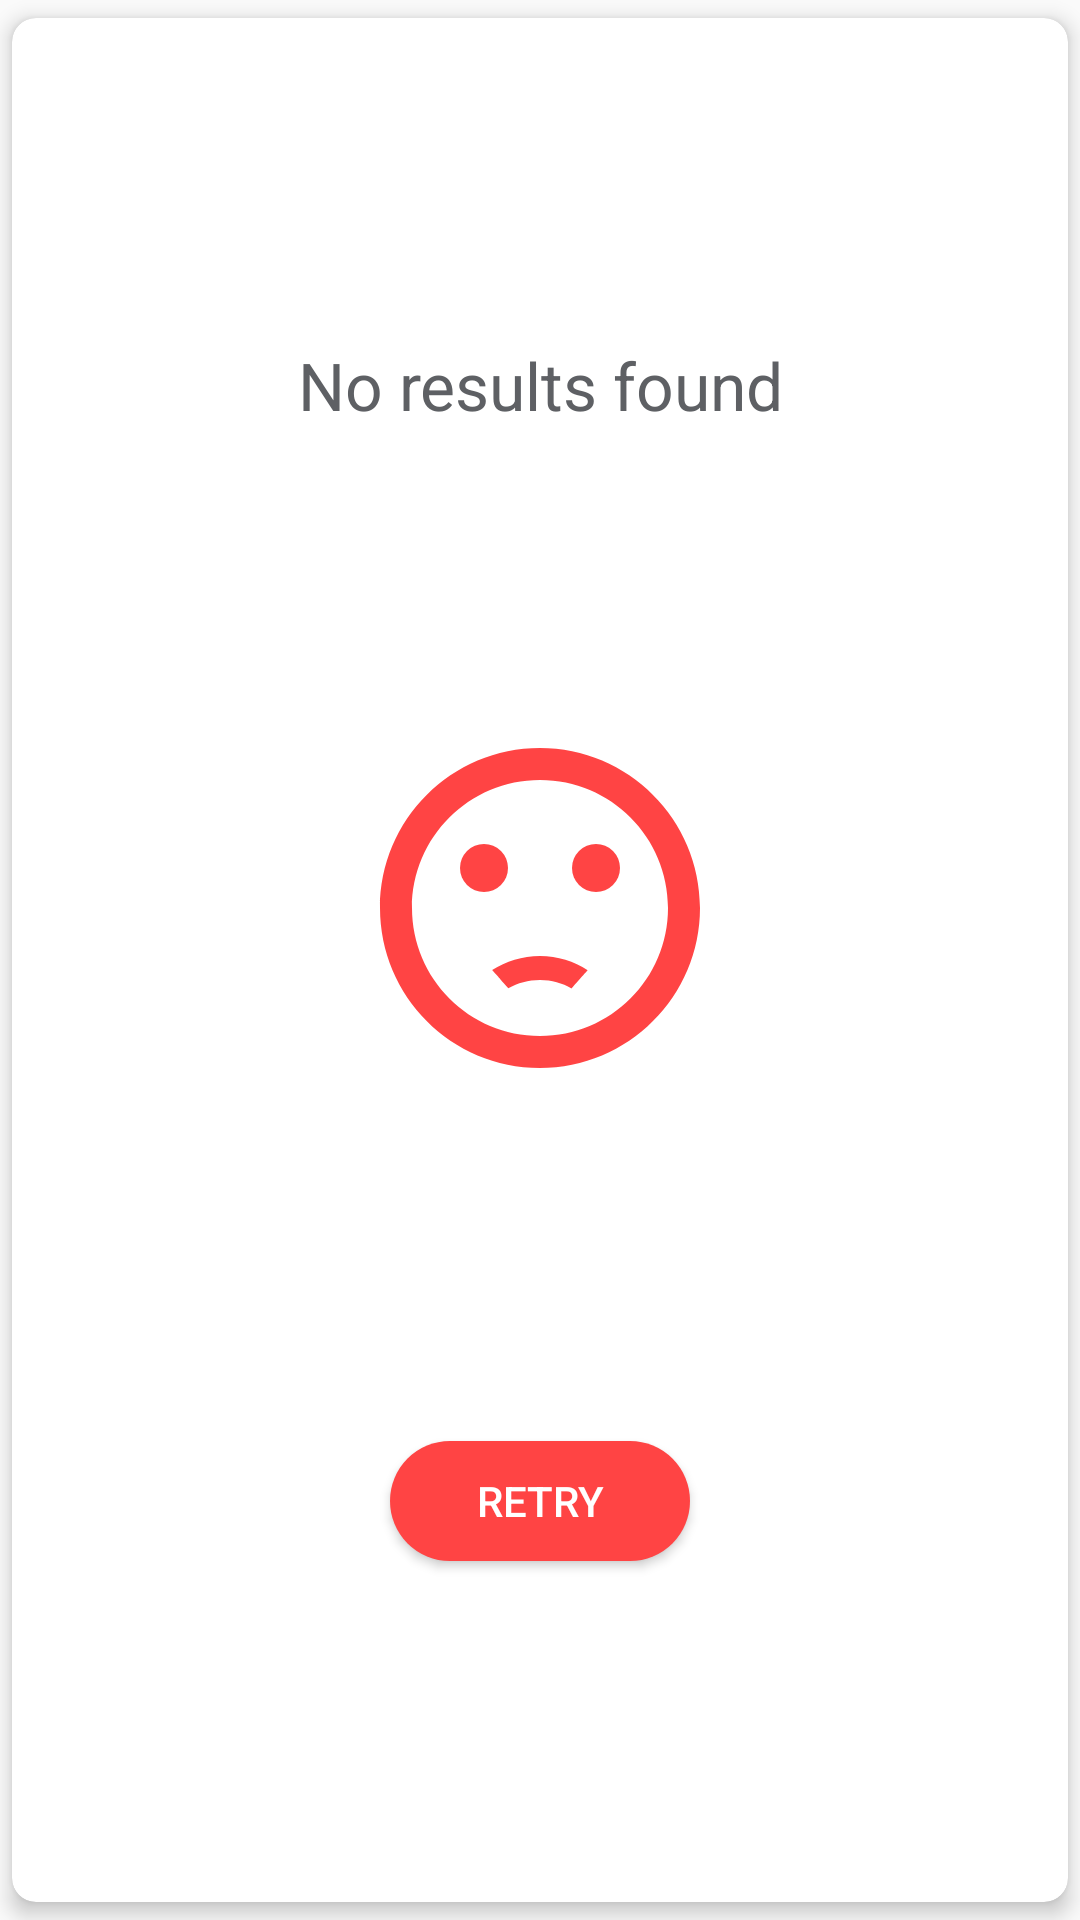

Named icons in this screenshot (1080×1920) and their centers, (x,y):
sentiment dissatisfied: (540,908)
